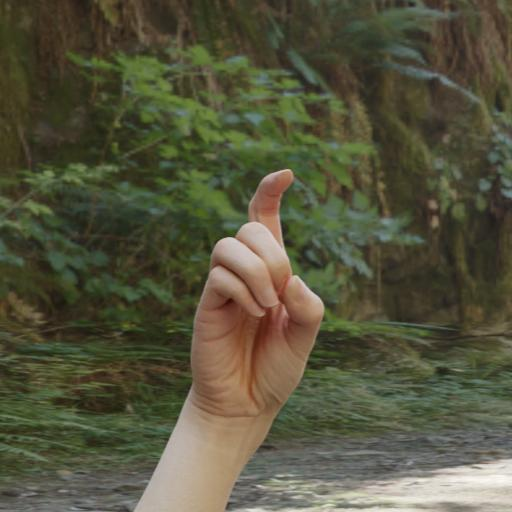X: (190, 166, 333, 429)
